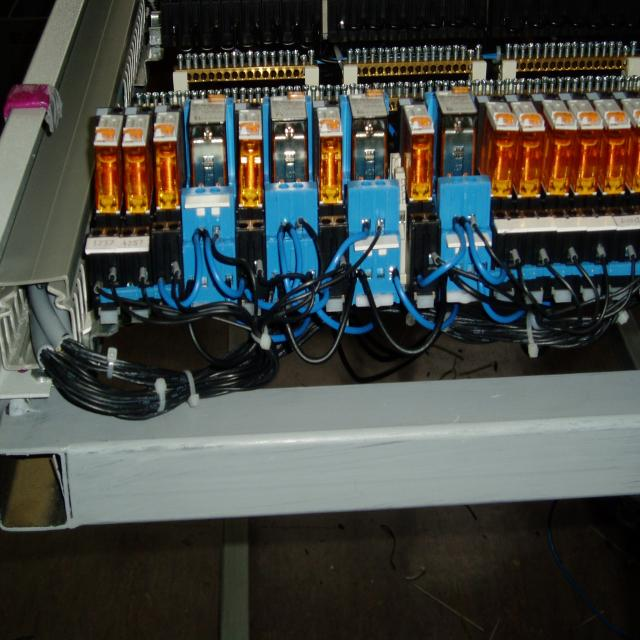Relais: (348, 88, 389, 118), (433, 87, 478, 114), (543, 101, 579, 131), (270, 92, 308, 120), (567, 100, 603, 128), (594, 100, 630, 128), (511, 102, 545, 131), (94, 114, 124, 145), (486, 102, 519, 130), (404, 104, 436, 132), (192, 96, 226, 122), (122, 114, 149, 145), (317, 106, 342, 137), (239, 110, 263, 139), (154, 113, 179, 140), (621, 100, 640, 128)
